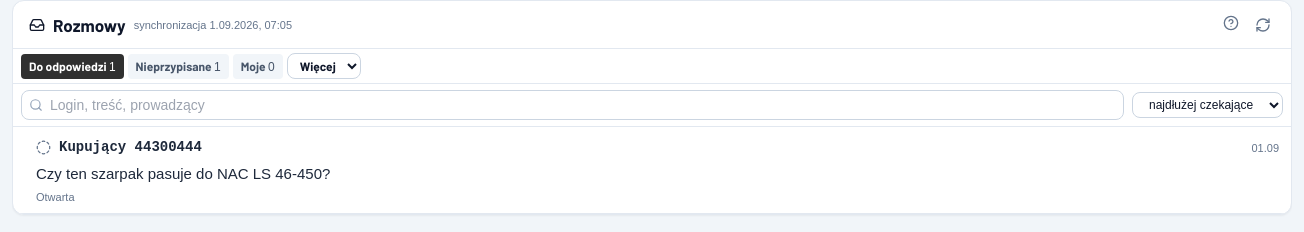
Scenario: Kolejka › pusty kubełek nie udaje pustej skrzynki
This screenshot has width=1304, height=232.
Click the button "Moje 0": (258, 66) [233,54,283,78]
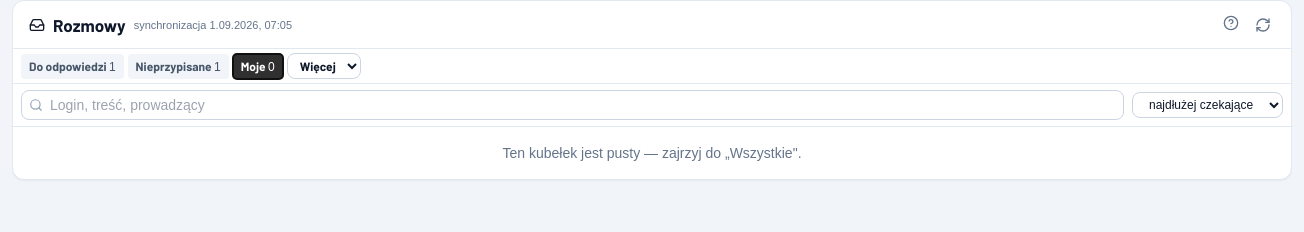
Result: the text "Ten kubełek jest pusty — zajrzyj do „Wszystkie\"." is shown at [502,145,802,161]
